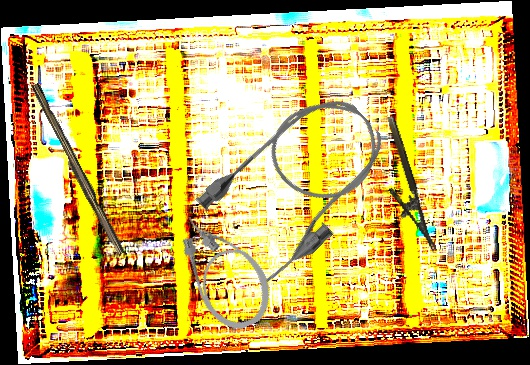Cannula: (187, 76, 409, 294), (168, 198, 282, 339)
Needle Holder: (368, 115, 438, 259)
Scalpel Handle: (26, 82, 128, 258)
